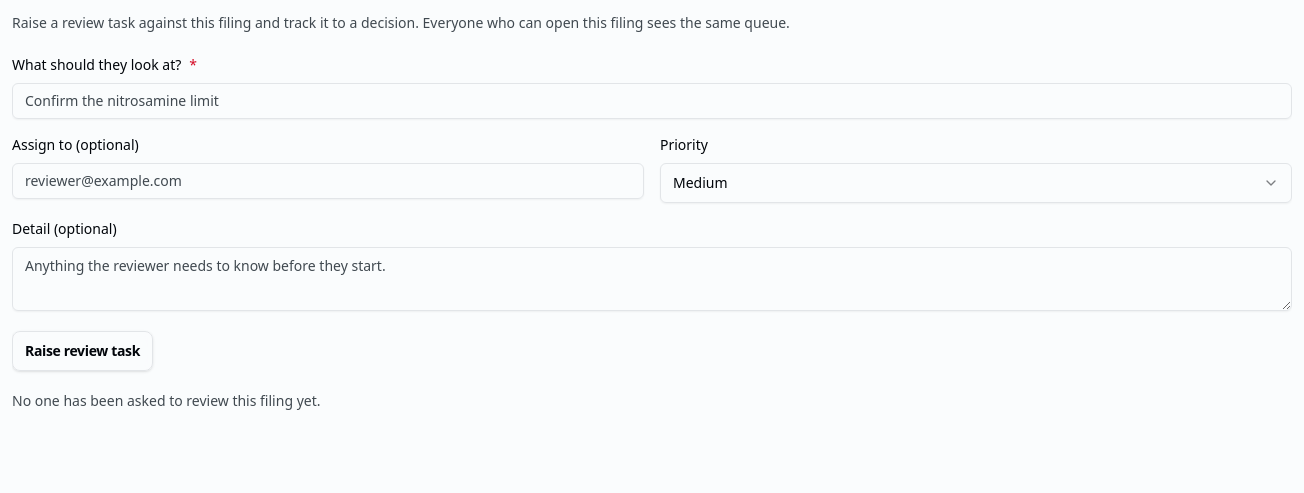
Test: SubjectReviewTasksBody › will not send a task with no title
This screenshot has width=1304, height=493.
Expected: the text "No one has been asked to review this filing yet." is shown, [12,391,320,410]
Click the button "Raise review task".
click(82, 351)  # box [12,331,153,371]
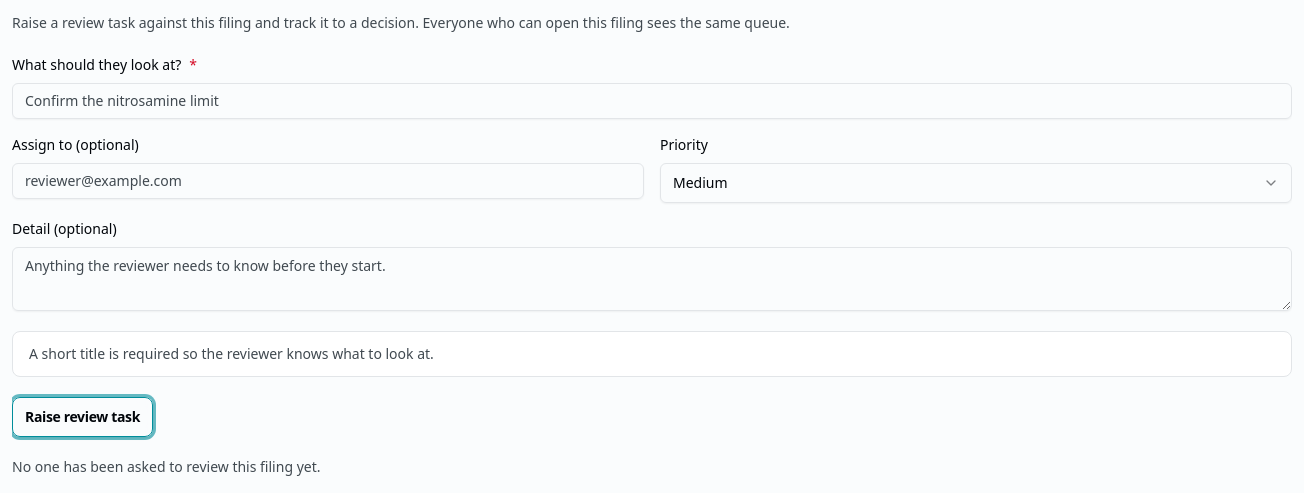
Expected: the text "A short title is required" is shown, [29,344,434,363]
